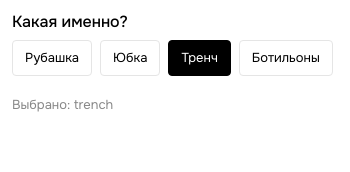
Test: ChipsDemo › replaces the choice when another chip is pressed
The width and height of the screenshot is (350, 172).
Click the button "Рубашка".
click(52, 58)  # box left=12, top=40, right=92, bottom=76
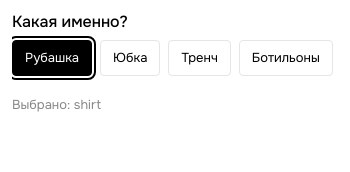
expect the text "Выбрано: shirt" is shown: met, box left=12, top=97, right=101, bottom=113
